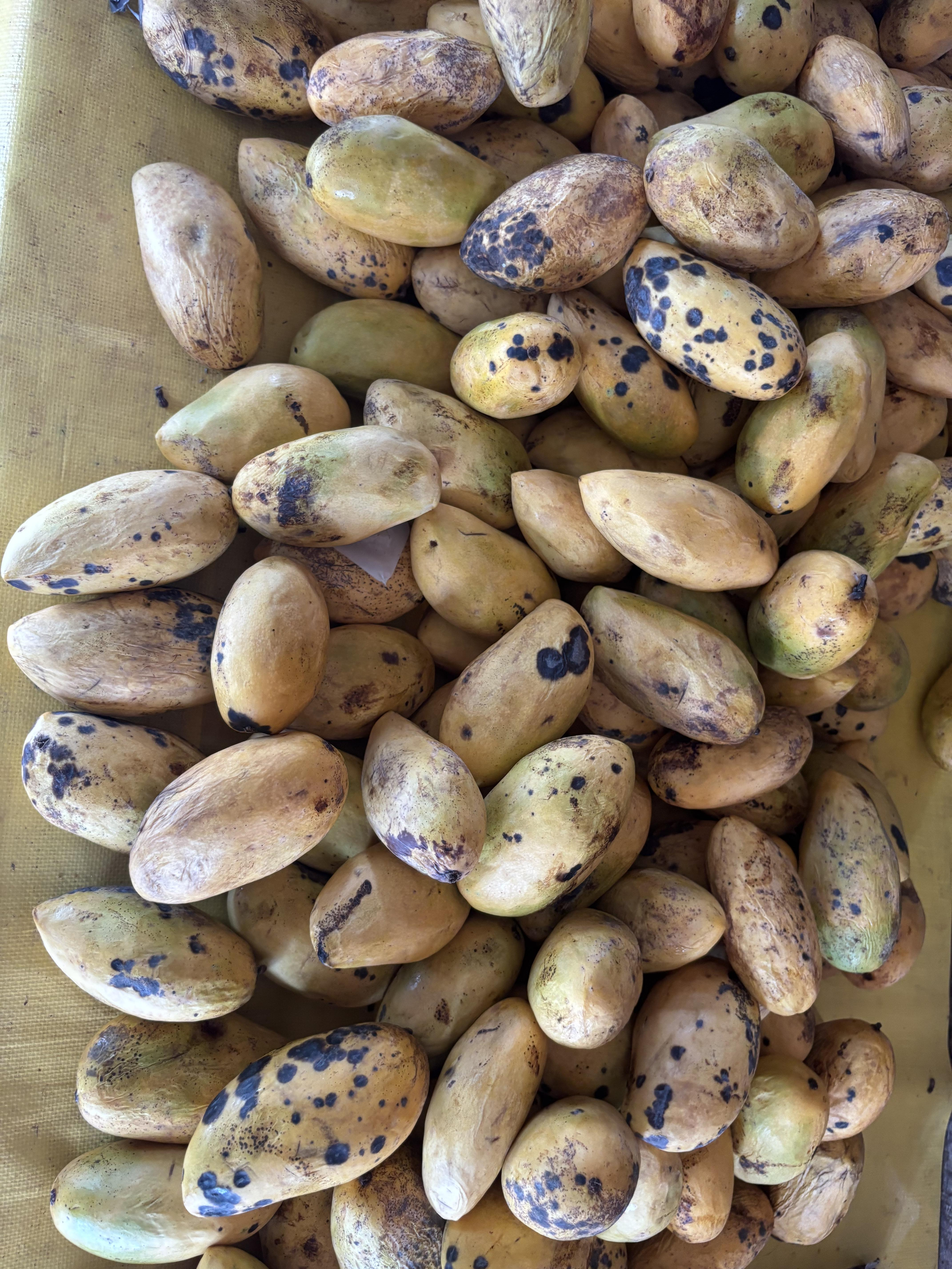mango: (182, 1022, 429, 1216), (130, 731, 348, 904), (33, 887, 256, 1022), (2, 469, 237, 596), (625, 238, 806, 400), (581, 586, 765, 745), (422, 999, 548, 1220), (132, 162, 263, 370), (622, 959, 759, 1153), (460, 154, 649, 293), (644, 120, 819, 270), (232, 426, 441, 550), (580, 469, 778, 591), (707, 816, 822, 1015), (361, 712, 486, 883), (212, 557, 329, 734), (800, 770, 900, 973), (501, 1097, 640, 1241), (747, 550, 878, 679), (528, 909, 642, 1048), (451, 313, 581, 420)
occluded: (460, 735, 636, 917), (439, 600, 593, 787), (238, 138, 415, 299), (50, 1140, 279, 1264), (8, 586, 222, 716), (76, 1013, 284, 1144), (306, 115, 506, 247), (22, 709, 203, 854), (548, 289, 698, 458), (227, 862, 400, 1007), (364, 379, 530, 529), (735, 332, 870, 514), (751, 188, 948, 308), (155, 363, 350, 483), (139, 0, 333, 119), (377, 911, 524, 1065), (520, 778, 651, 941), (307, 29, 502, 135), (409, 503, 559, 639), (310, 844, 470, 970), (652, 92, 835, 196), (789, 453, 940, 579), (647, 707, 813, 809), (290, 625, 435, 741), (288, 299, 458, 397), (441, 1180, 625, 1269), (797, 35, 910, 179), (801, 309, 886, 483), (801, 746, 910, 881), (331, 1143, 445, 1269), (256, 538, 423, 624), (511, 470, 632, 585), (595, 869, 726, 973), (629, 1181, 773, 1269), (731, 1055, 828, 1185), (411, 246, 548, 335), (481, 0, 592, 107), (637, 572, 757, 670), (806, 1018, 896, 1140), (768, 1133, 864, 1245), (860, 290, 952, 398), (568, 675, 666, 775), (714, 0, 814, 96), (486, 64, 605, 142), (299, 752, 376, 872), (843, 880, 926, 990), (450, 118, 579, 184), (539, 1020, 633, 1109), (600, 1142, 682, 1243), (525, 408, 633, 477), (667, 1135, 735, 1243), (586, 0, 659, 94), (839, 619, 911, 712), (703, 773, 809, 836), (681, 381, 755, 468), (632, 0, 728, 67), (261, 1189, 340, 1269), (895, 85, 952, 193), (633, 812, 713, 888), (898, 457, 952, 556), (417, 609, 494, 677), (879, 0, 952, 71), (759, 663, 858, 715), (590, 94, 658, 168), (876, 383, 946, 453), (658, 52, 737, 111), (740, 492, 820, 548), (876, 553, 937, 621), (810, 0, 880, 54), (427, 0, 493, 53), (810, 702, 890, 745), (921, 664, 952, 771), (913, 235, 952, 318), (761, 1007, 815, 1061), (639, 90, 707, 131), (588, 255, 628, 317), (196, 1245, 267, 1269), (891, 66, 952, 89), (709, 466, 742, 496), (642, 226, 680, 248), (729, 270, 749, 280)
